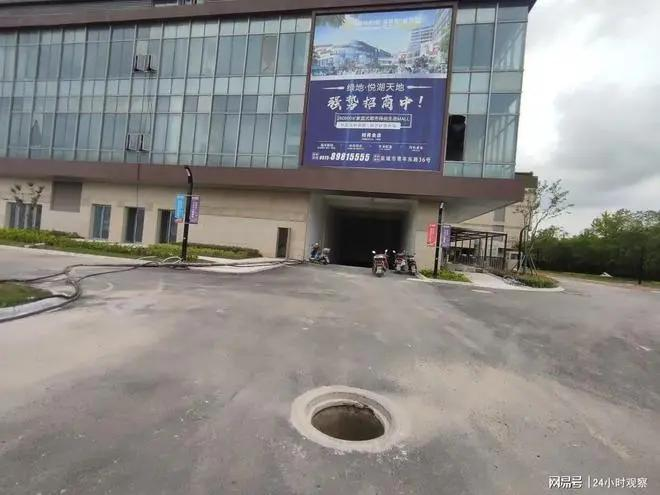wellcover: (294, 384, 399, 451)
